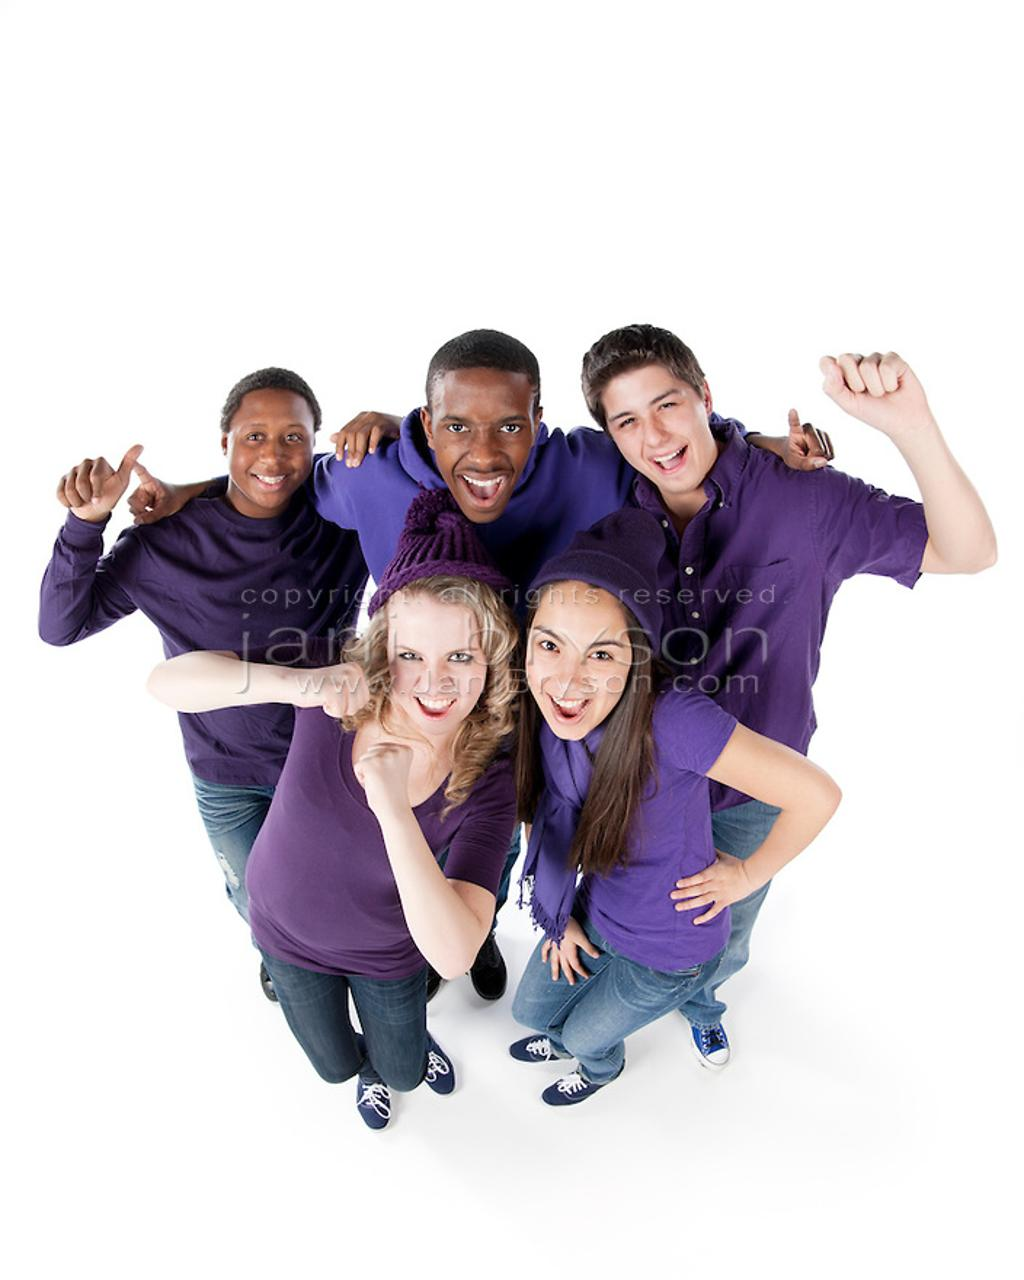face: (522, 584, 637, 744), (425, 367, 535, 519), (604, 380, 716, 497), (385, 609, 485, 739), (230, 390, 317, 505)
